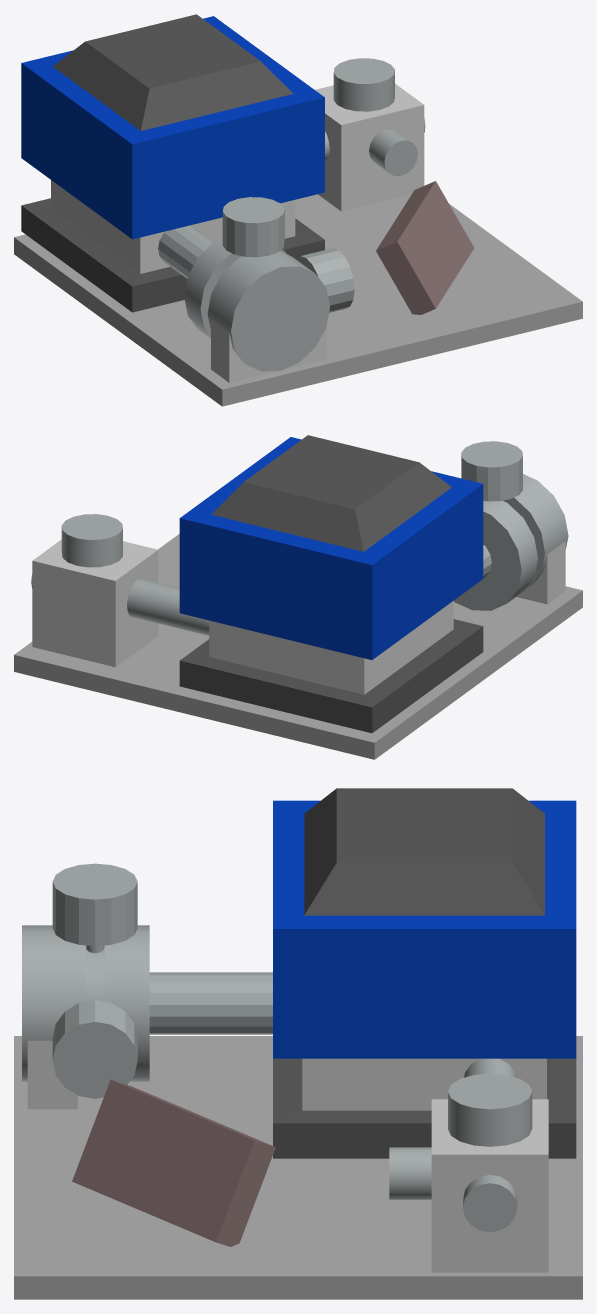
The model's file is AtomicAnalyzer 1.fbx.
3 views of the same model, one above another, from view 1: azimuth 30°, elevation 25°; view 2: azimuth 150°, elevation 25°; view 3: azimuth 270°, elevation 25° (orthographic). The views are drawn at different scales.
Visible parts, largest first — view 1: pCylinder7; view 2: pCylinder7; view 3: pCylinder7.
Boxes of the visible parts, bbox=[...] form: pCylinder7: bbox=[14, 14, 582, 406]; pCylinder7: bbox=[14, 435, 582, 759]; pCylinder7: bbox=[14, 788, 582, 1299].
Bounding box in the file's own units: 118 × 67.4 × 115.
